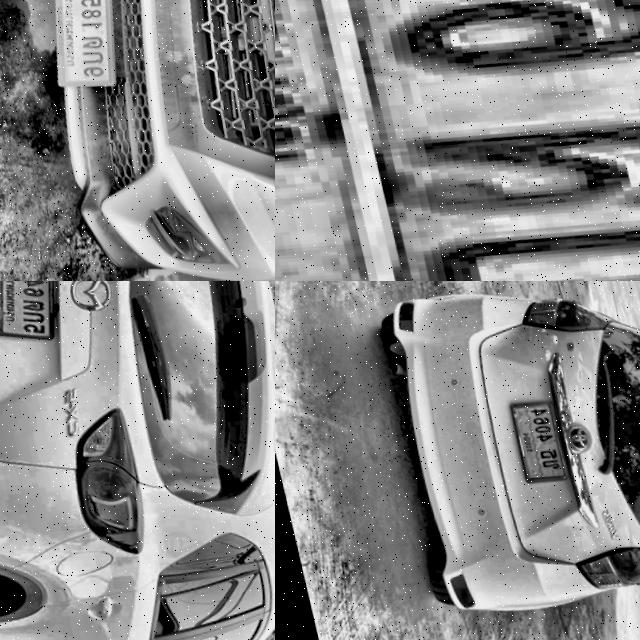license-plate: (275, 0, 640, 281), (26, 0, 131, 94), (502, 388, 565, 481), (0, 281, 74, 348)
